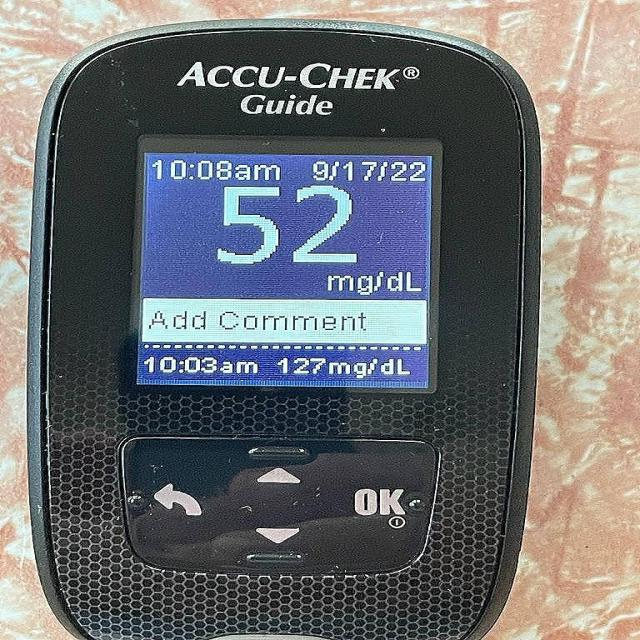gluco: (26, 18, 542, 639)
